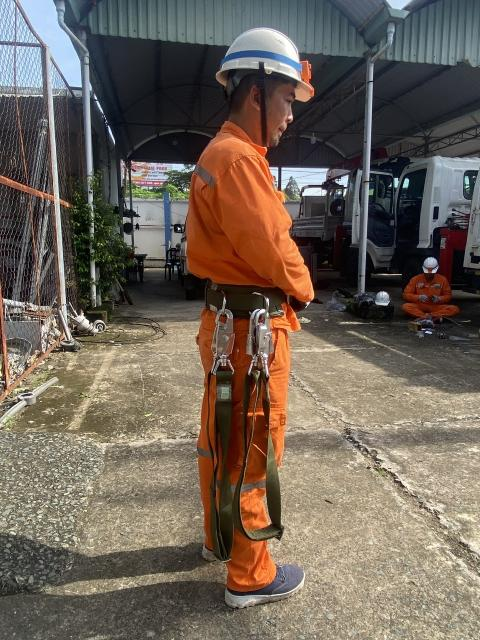harness: (165, 259, 307, 344)
helmet: (201, 0, 314, 104)
shoes: (223, 557, 312, 609)
